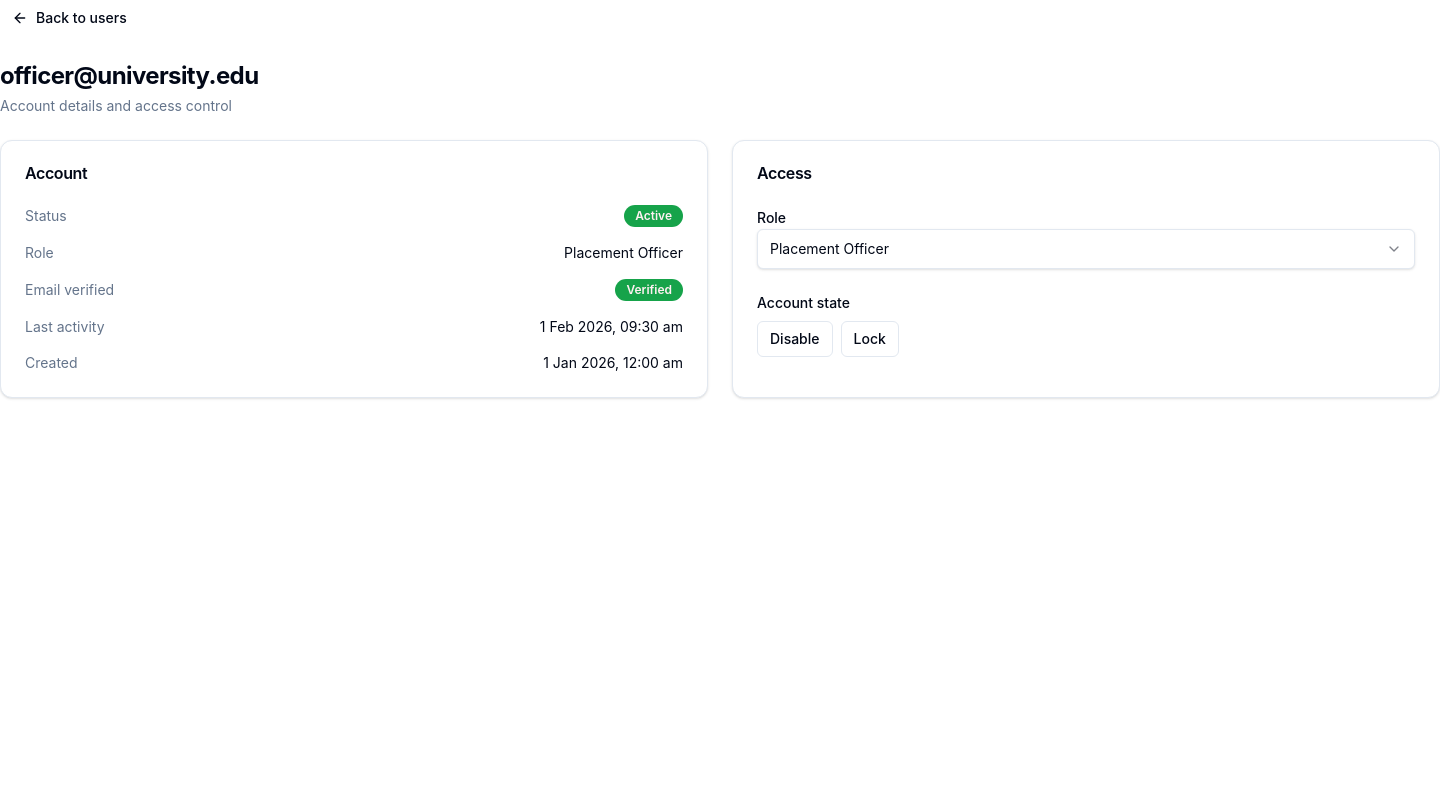
UserDetailPage › surfaces the last-active-admin 409 verbatim instead of suppressing it
This screenshot has width=1440, height=810.
expect the heading "officer@university.edu" is shown: met, box [0,60,258,92]
Click the button "Disable" at {"x": 795, "y": 339}, box [757,321,832,357]
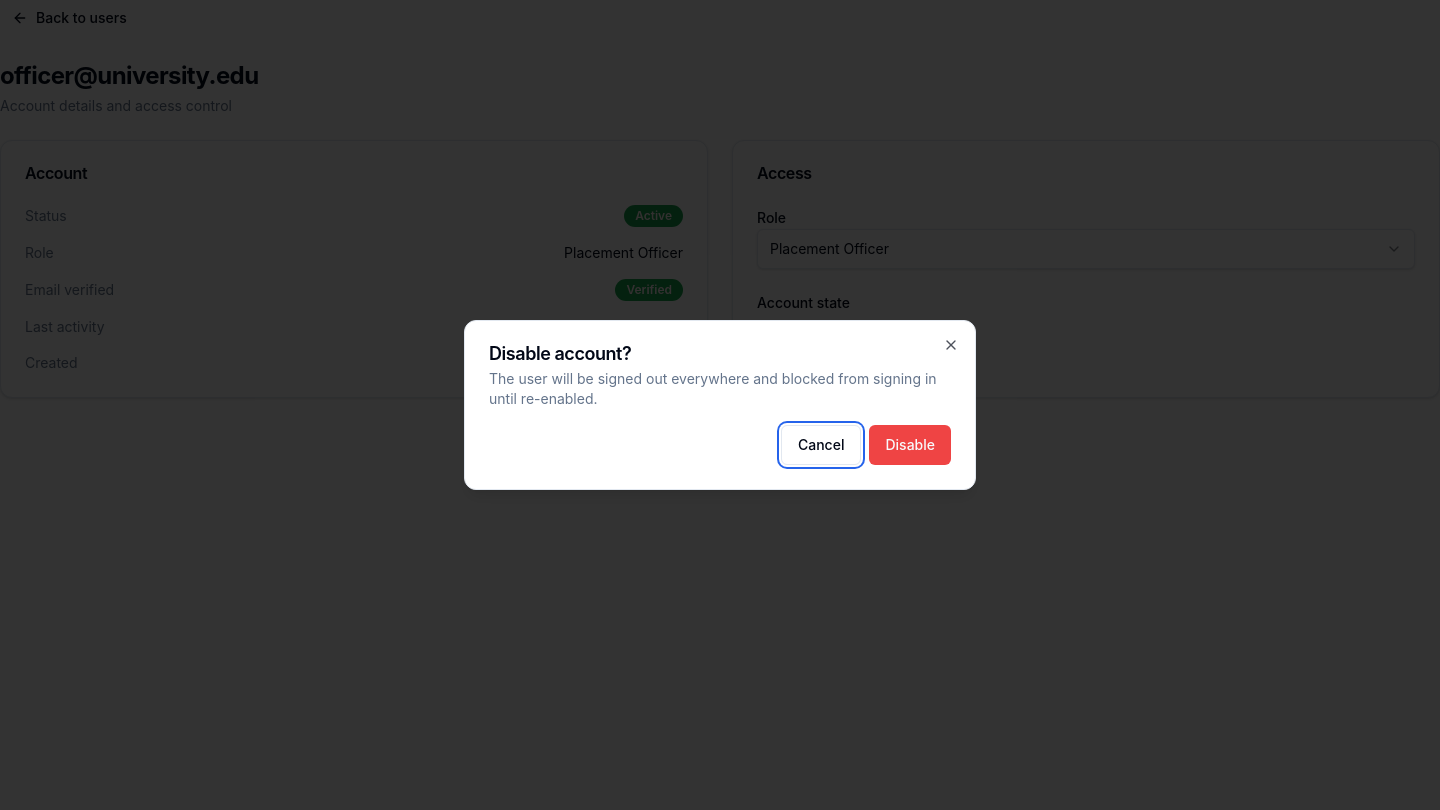
expect the heading "Disable account?" is shown: met, box [489,343,631,364]
Click the button "Disable" at {"x": 910, "y": 445}, box [870,425,951,465]
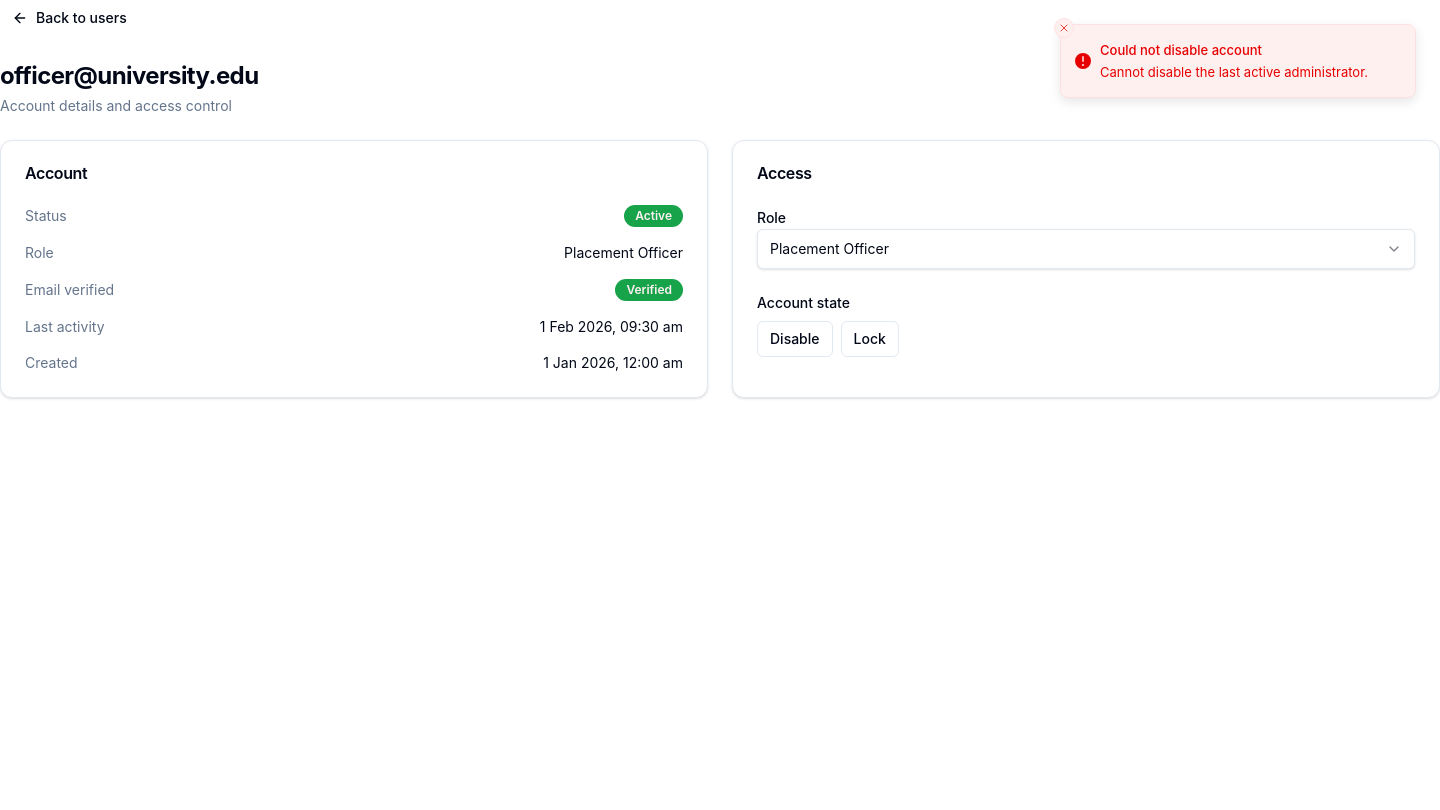
expect the text "Cannot disable the last active administrator." is shown: met, box [1100,62,1368,81]
